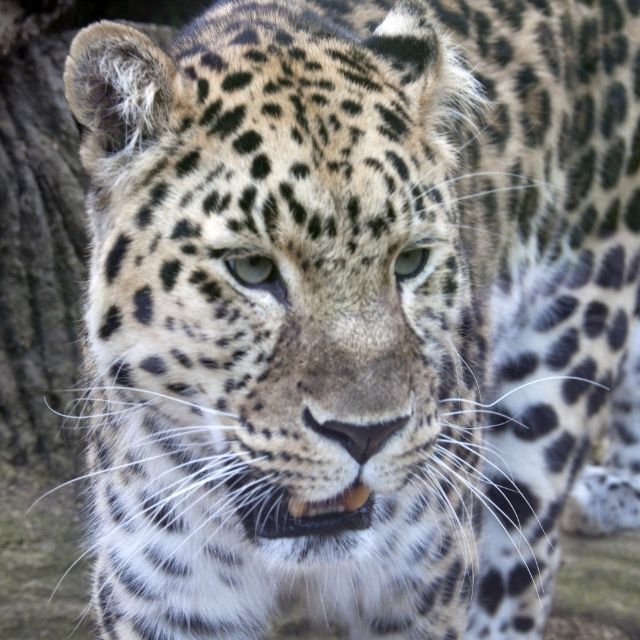Jaguar: (27, 0, 640, 640)
